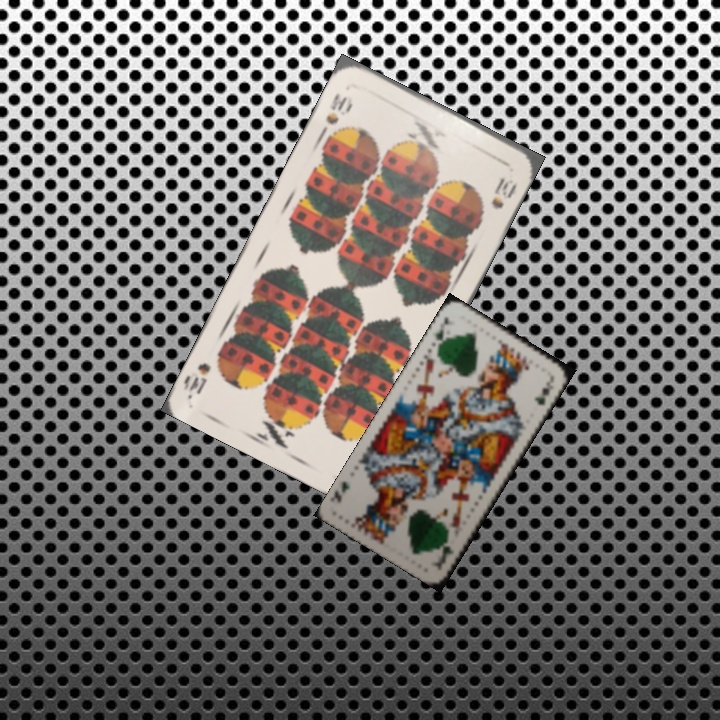GK: (431, 312, 456, 351), (436, 534, 457, 569)
S10: (316, 89, 350, 138)
